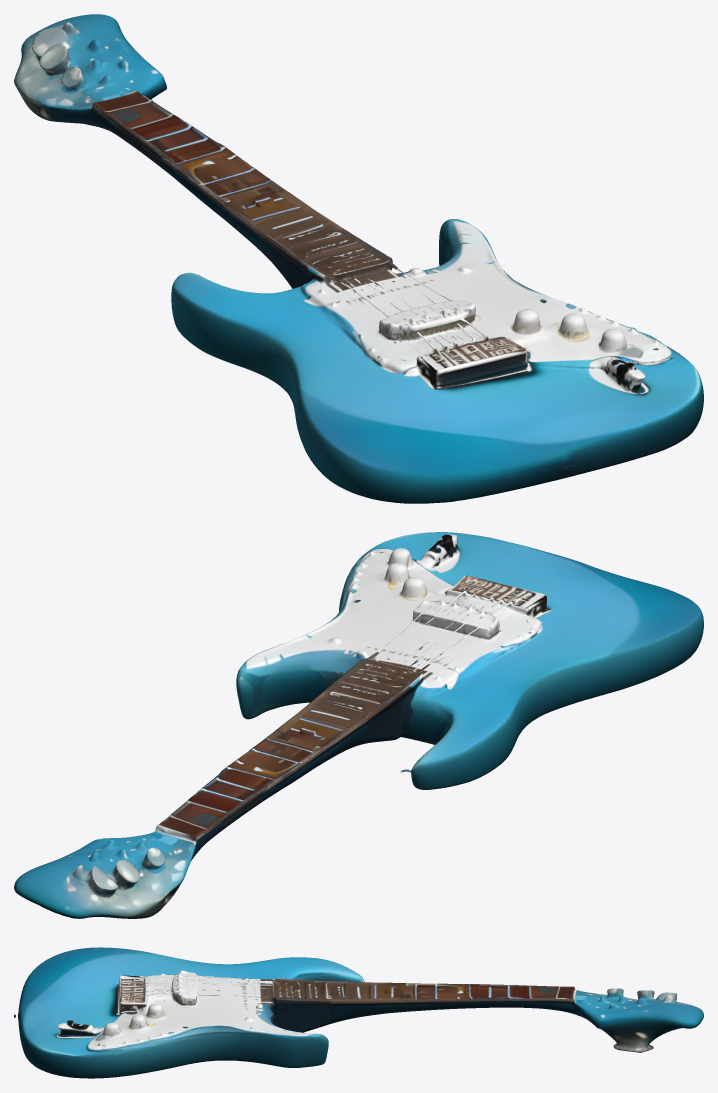
File: guitar_shaded.obj
3 views of the same model, one above another, from view 1: azimuth 30°, elevation 25°; view 2: azimuth 150°, elevation 25°; view 3: azimuth 270°, elevation 25° (orthographic). The views are drawn at different scales.
Size of the model in its own units: 0.7097 by 0.1561 by 1.9.
Materials: 1 (1 with a texture image).
